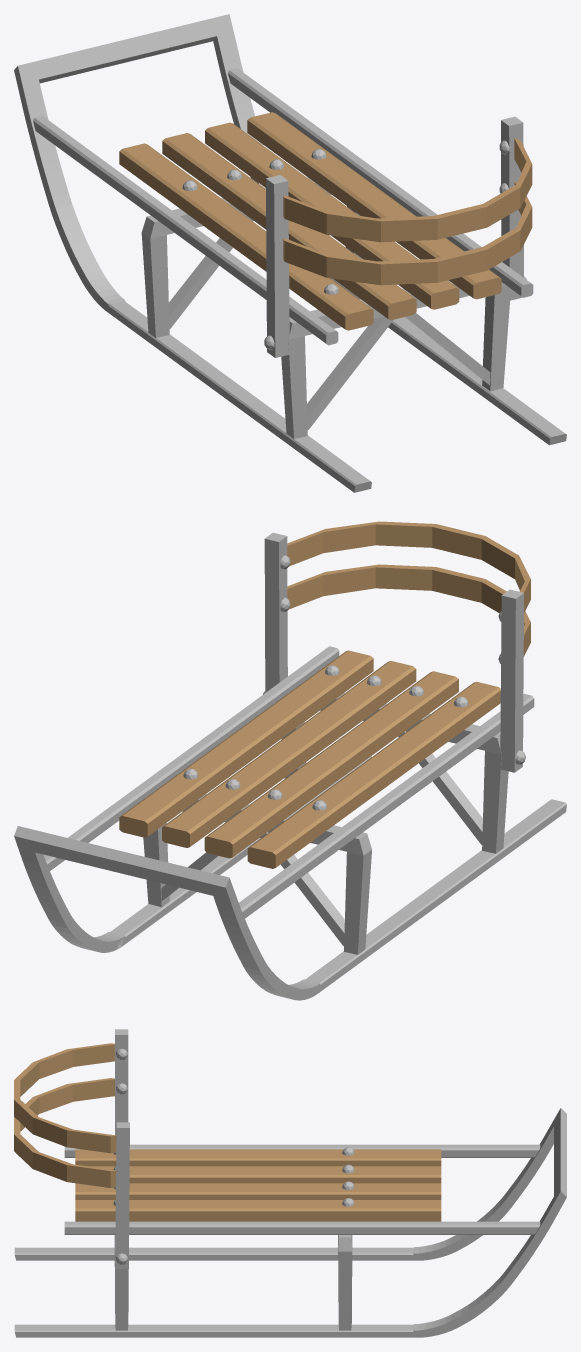
Rendered from Sleigh (Fix).fbx.
3 views of the same model, one above another, from view 1: azimuth 30°, elevation 25°; view 2: azimuth 150°, elevation 25°; view 3: azimuth 270°, elevation 25° (orthographic). The views are drawn at different scales.
Visible parts, largest first — view 1: Circle.001; view 2: Circle.001; view 3: Circle.001.
Boxes of the visible parts, x1,y1,x2,y2 form: Circle.001: [14, 14, 566, 492]; Circle.001: [14, 521, 566, 1000]; Circle.001: [14, 1029, 566, 1337].
Bounding box in the file's own units: 519 × 509 × 1175.
